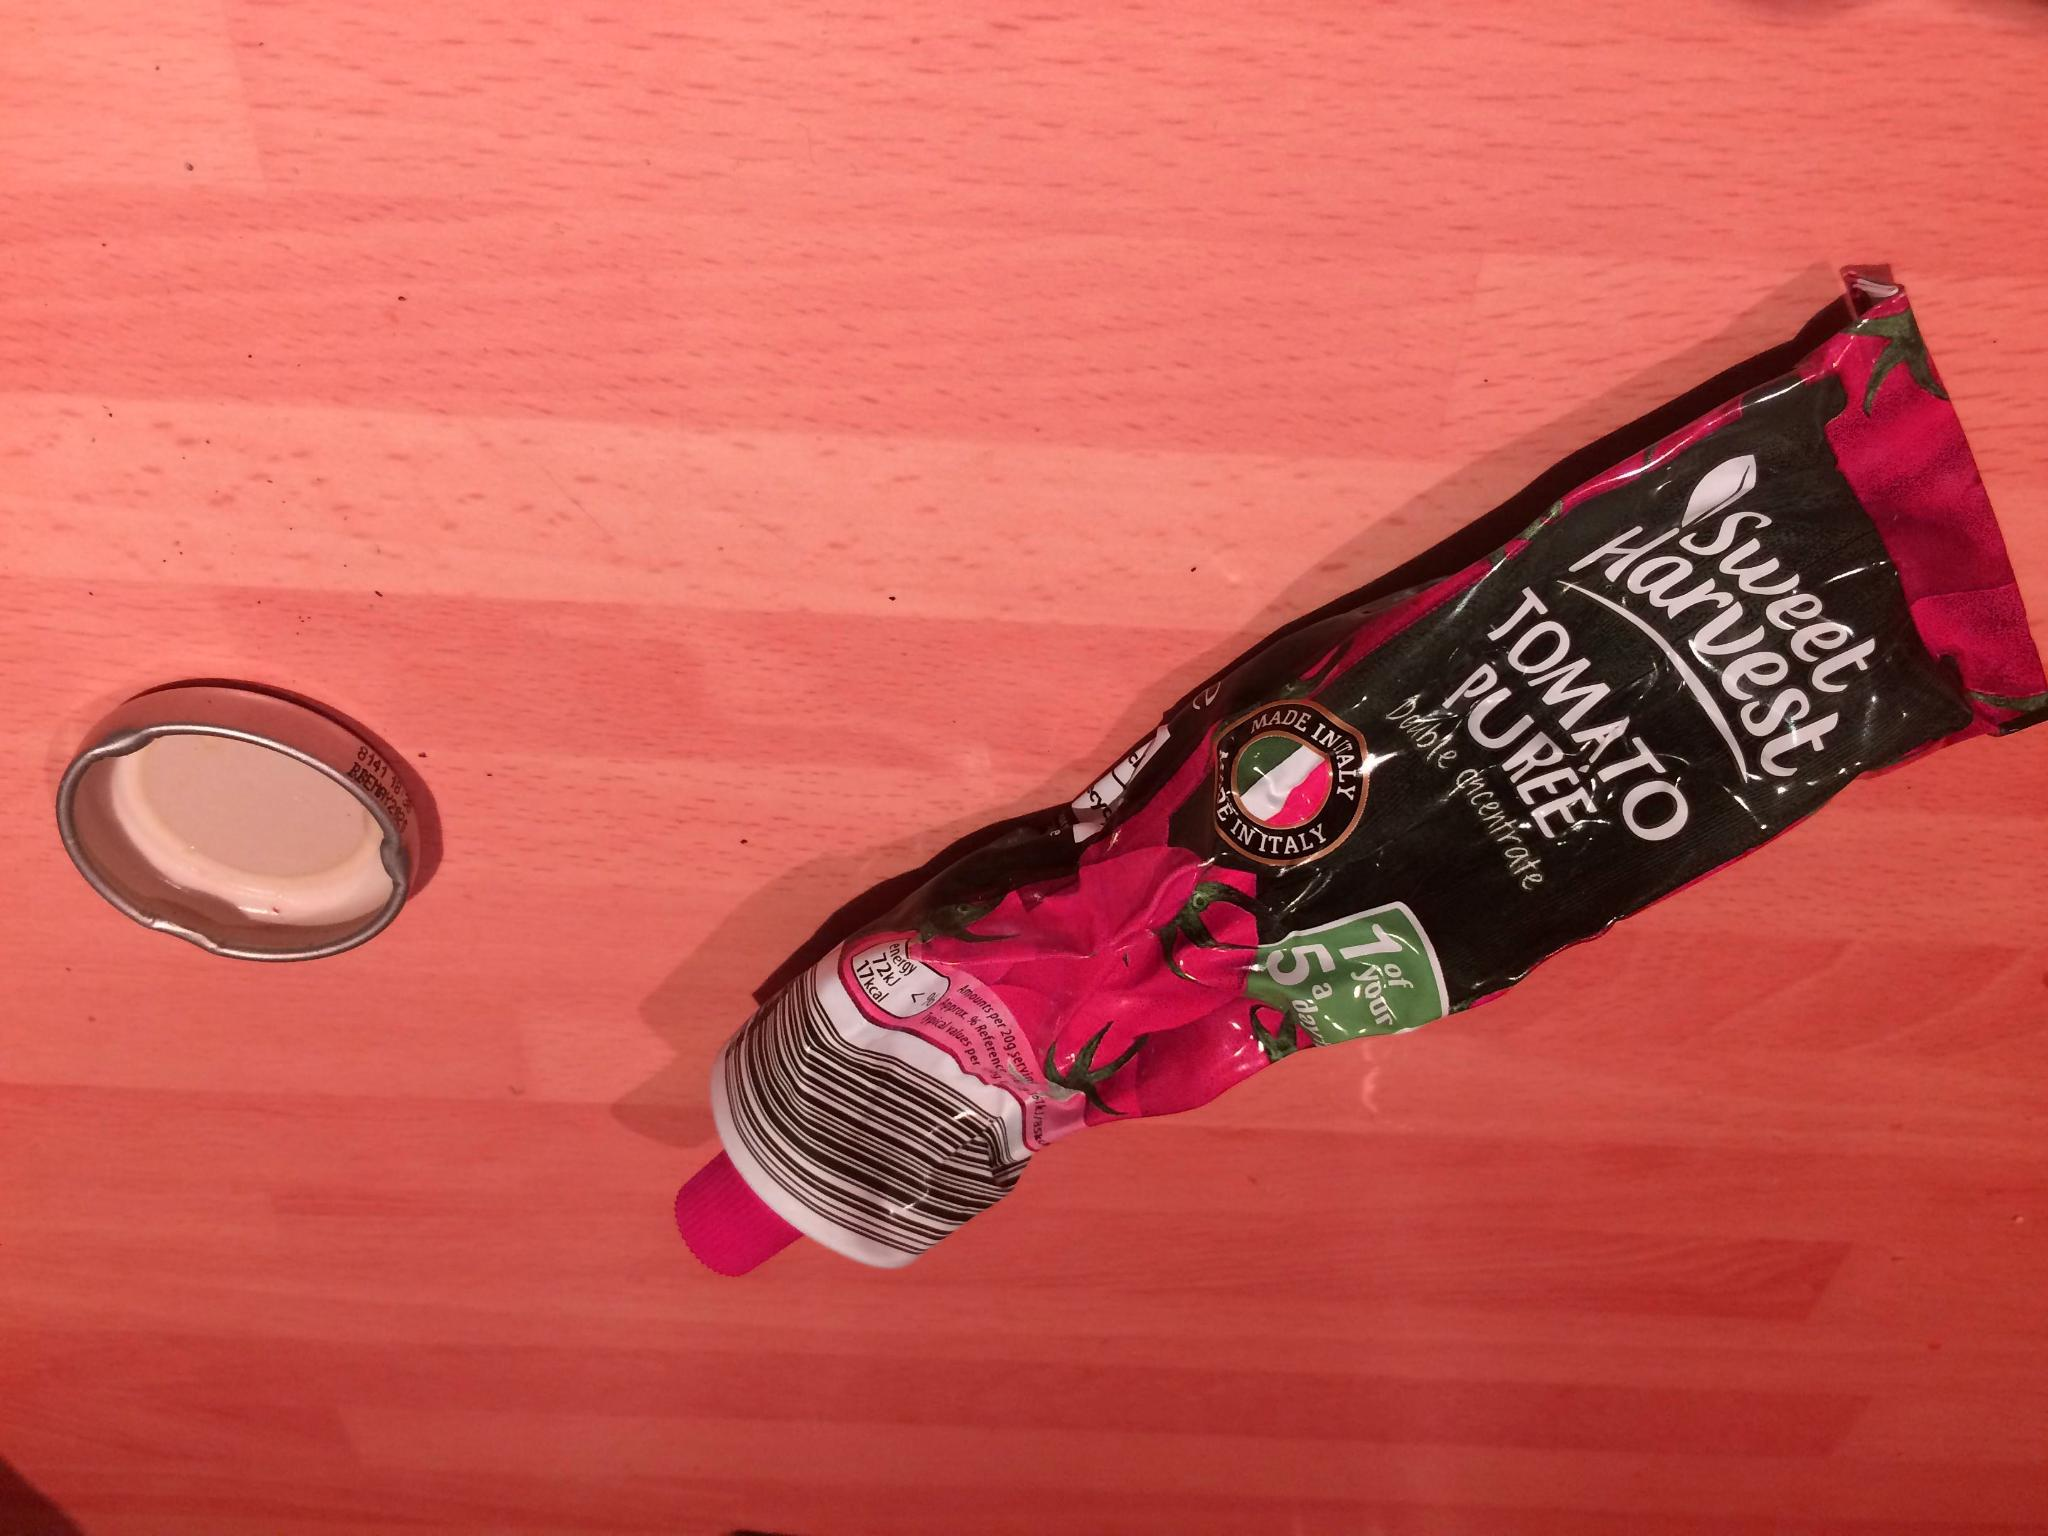Metal: (45, 668, 440, 994)
Plastic: (656, 247, 2045, 1291)
